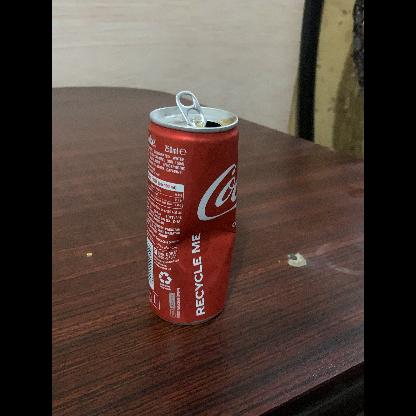Dent_Can: (175, 217, 237, 278), (159, 229, 191, 287)
Lid_Open: (171, 83, 225, 131)
Tin_Can: (140, 80, 244, 328)
